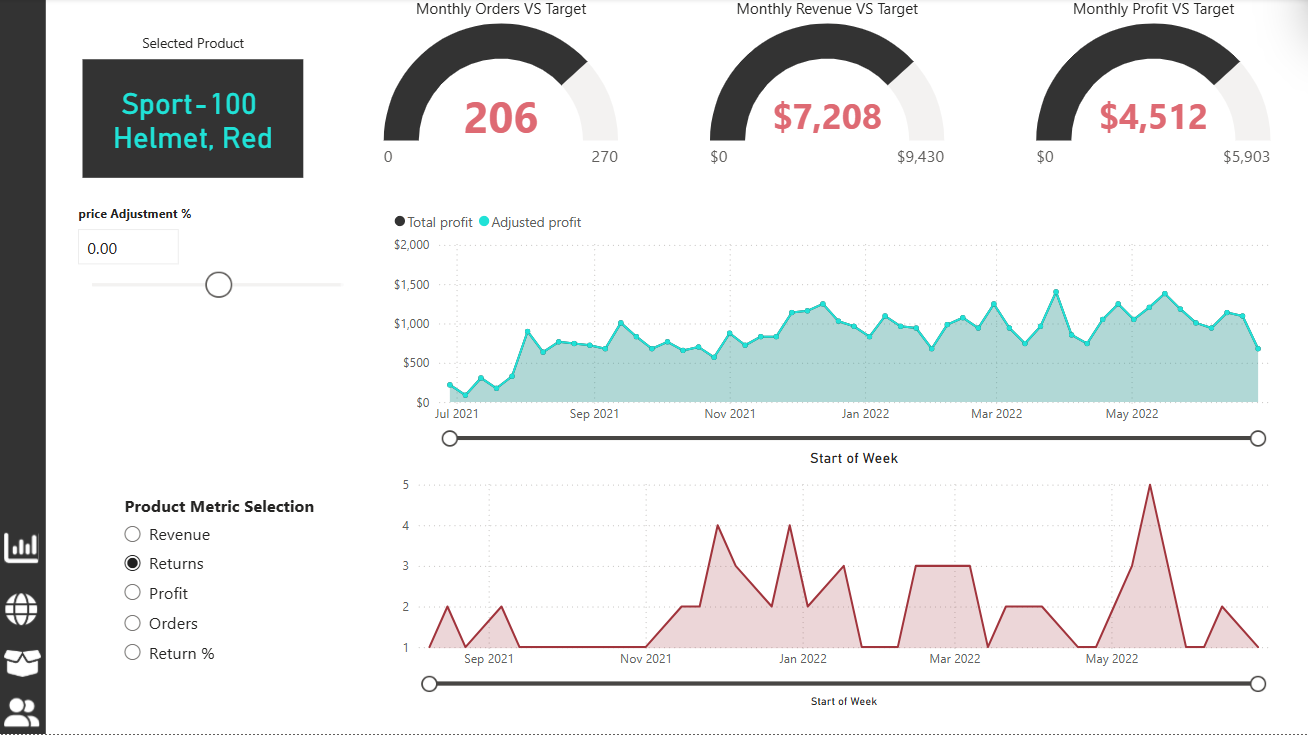

Layout of this report page (visuals, bound fields, positions):
{"tool":"powerbi","page":{"name":"Product Detail","canvas":[1280,720],"ordinal":2},"visuals":[{"type":"shape","box":[0,0,45,720],"z":0},{"type":"gauge","title":"Monthly Orders VS Target","fields":{"MaxValue":["Measure Table.Order Target"],"Y":["Measure Table.Total orders"]},"box":[357.5,0,266.2,176.2],"z":1000},{"type":"actionButton","box":[0,517,45.2,41.6],"z":1000,"group":"g1"},{"type":"gauge","title":"Monthly Profit VS Target","fields":{"MaxValue":["Measure Table.Profit Target"],"Y":["Measure Table.Total profit"]},"box":[995,0,266.2,176.2],"z":2000},{"type":"actionButton","box":[0,627.1,44,46.5],"z":2000,"group":"g1"},{"type":"gauge","title":"Monthly Revenue VS Target","fields":{"MaxValue":["Measure Table.Revenue Target"],"Y":["Measure Table.Total Revenue"]},"box":[676.2,0,266.2,176.2],"z":3000},{"type":"actionButton","box":[0,677.2,44,42.8],"z":3000,"group":"g1"},{"type":"lineChart","title":"Profit Trending","fields":{"Category":["Calendar Lookup.DATE Hierarchy.Start of Year","Calendar Lookup.DATE Hierarchy.Start of Month","Calendar Lookup.DATE Hierarchy.Start of Week","Calendar Lookup.DATE Hierarchy.Date"],"Y":["Measure Table.Total profit","Measure Table.Adjusted profit"]},"box":[380.3,198.1,881.7,264.1],"z":4000},{"type":"actionButton","box":[1.2,578.2,45.2,39.1],"z":4000,"group":"g1"},{"type":"areaChart","title":" Retruns Trending","fields":{"Category":["Calendar Lookup.DATE Hierarchy.Start of Year","Calendar Lookup.DATE Hierarchy.Start of Month","Calendar Lookup.DATE Hierarchy.Start of Week","Calendar Lookup.DATE Hierarchy.Date"],"Y":["Measure Table.Total Returns"]},"box":[380.3,462.2,881.7,236],"z":5000},{"type":"card","fields":{"Values":["Min(Product Lookup.ProductName)"]},"box":[81.2,60,216.2,116.2],"z":6000},{"type":"textbox","box":[81.2,28.8,216.2,31.2],"z":7000},{"type":"group","id":"g1","title":"Navigation buttons","box":[0,517,46.5,203],"z":8000},{"type":"slicer","fields":{"Values":["price Adjustment %.price Adjustment %"]},"box":[63.6,198.1,293.5,95.4],"z":9000},{"type":"slicer","fields":{"Values":["Product Metric Selection.Product Metric Selection"]},"box":[108.8,480.6,248.2,201.8],"z":10000}]}

Visuals, with their boxes on the page's 1280x720 design canvas (x1, y1, x2, y2). These are canvas units, not pixel positions in the 1308x735 screenshot, which may show the page scaled, cropped or inside an application window:
shape: l=0, t=0, r=45, b=720
"Monthly Orders VS Target" gauge: l=358, t=0, r=624, b=176
actionButton: l=0, t=517, r=45, b=559
"Monthly Profit VS Target" gauge: l=995, t=0, r=1261, b=176
actionButton: l=0, t=627, r=44, b=674
"Monthly Revenue VS Target" gauge: l=676, t=0, r=942, b=176
actionButton: l=0, t=677, r=44, b=720
"Profit Trending" lineChart: l=380, t=198, r=1262, b=462
actionButton: l=1, t=578, r=46, b=617
" Retruns Trending" areaChart: l=380, t=462, r=1262, b=698
card - Min(Product Lookup.ProductName): l=81, t=60, r=297, b=176
textbox: l=81, t=29, r=297, b=60
"Navigation buttons" group: l=0, t=517, r=46, b=720
slicer - price Adjustment %.price Adjustment %: l=64, t=198, r=357, b=294
slicer - Product Metric Selection.Product Metric Selection: l=109, t=481, r=357, b=682
